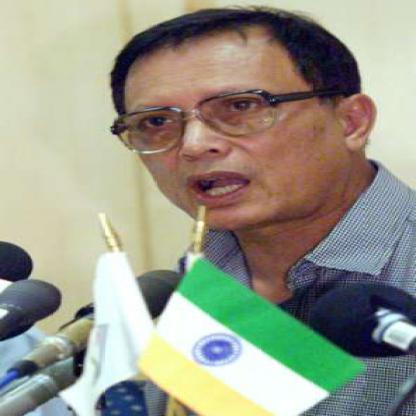face: (116, 14, 345, 239)
